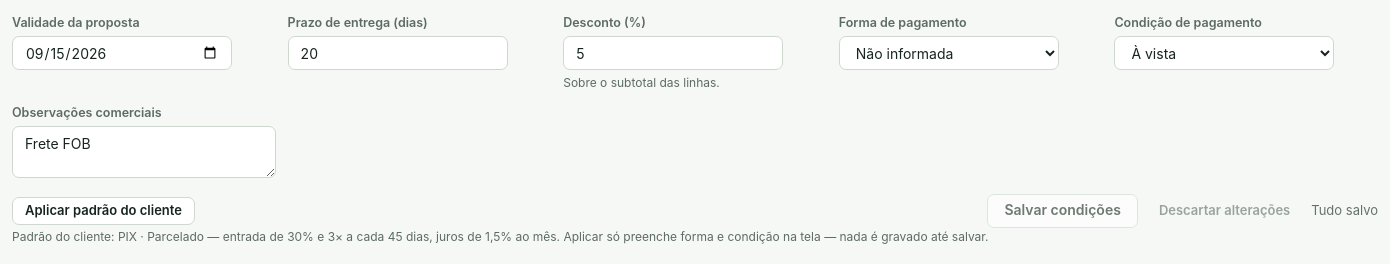
Test case: Aplicar padrão do cliente — preenche a tela, não grava › Descartar volta ao gravado, e a ação volta a ser oferecida
What coordinates should you click on to do the following:
click the button "Aplicar padrão do cliente"
I would click on:
 (104, 211)
Its box is [12,197,195,225].
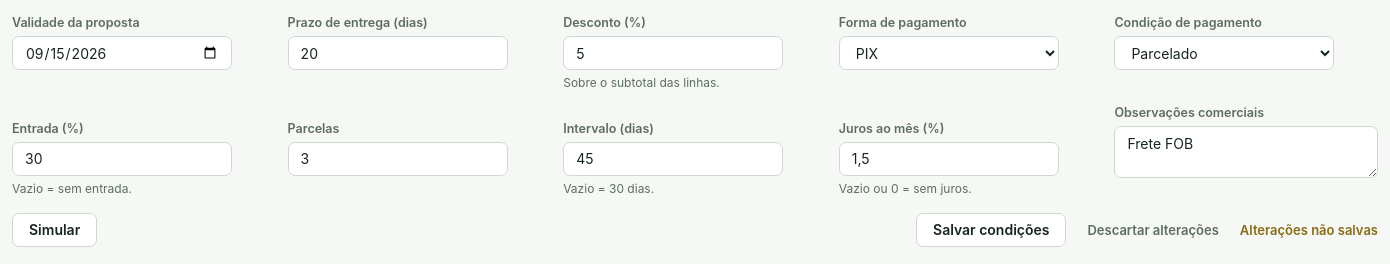
What coordinates should you click on to do the following:
click the button "Descartar alterações"
I would click on:
 (1153, 230)
Its box is [1074,216,1232,244].
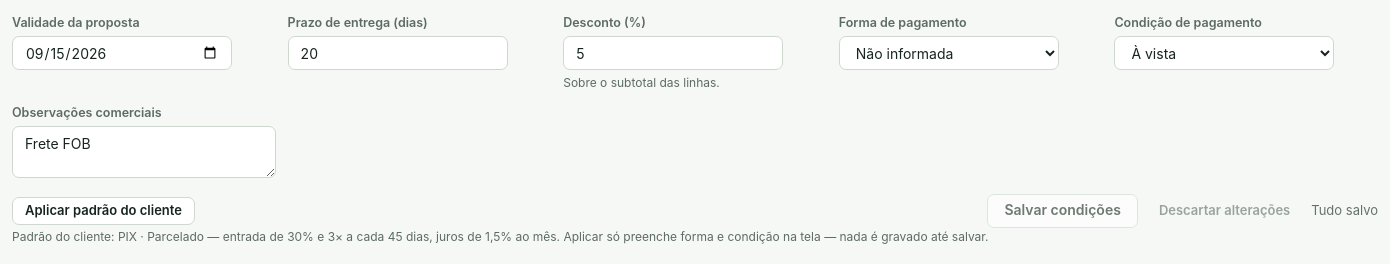
Result: the dropdown labelled "Forma de pagamento" shows "Não informada" at [839,36,1059,70]
Result: the dropdown labelled "Condição de pagamento" shows "À vista" at [1114,36,1334,70]
Result: the message reads "Tudo salvo" at [1311,202,1378,218]
